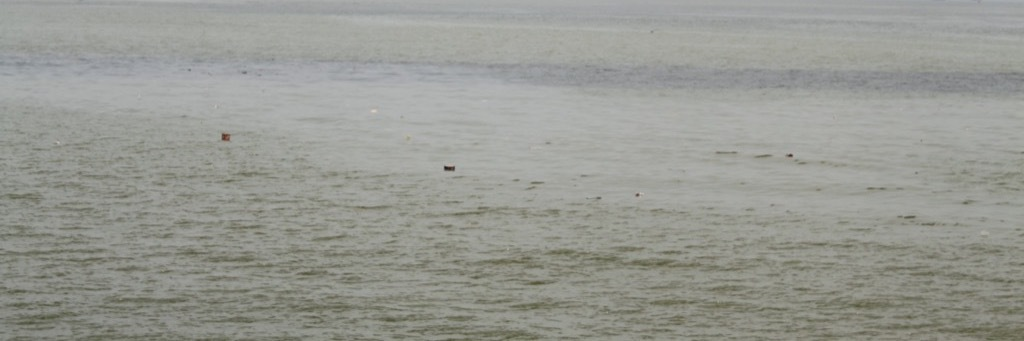plastic: (428, 155, 464, 181), (211, 123, 239, 151), (42, 132, 72, 154), (627, 184, 653, 205), (361, 99, 386, 120), (781, 147, 801, 166), (395, 130, 418, 146), (976, 223, 994, 243), (233, 64, 254, 81), (210, 103, 227, 119)
